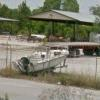Boat: (16, 41, 72, 78)
